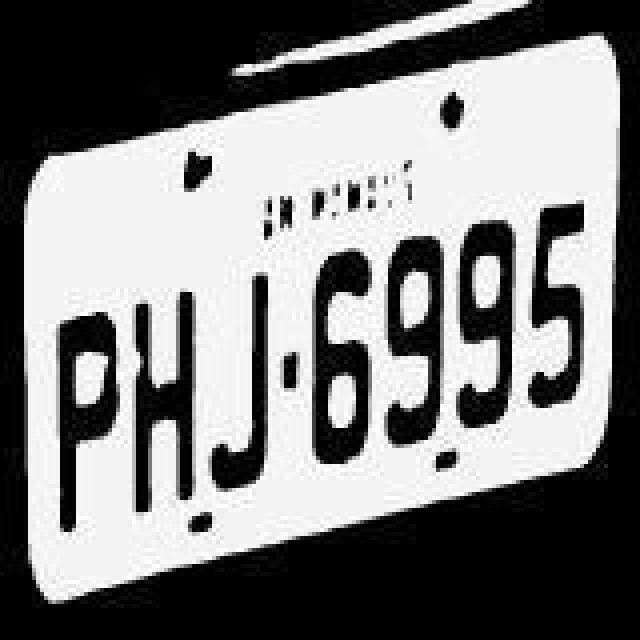5: (526, 194, 594, 422)
6: (304, 242, 376, 478)
9: (378, 226, 446, 462), (456, 214, 520, 442)
H: (122, 282, 198, 518)
J: (204, 268, 276, 500)
P: (46, 306, 122, 542)
